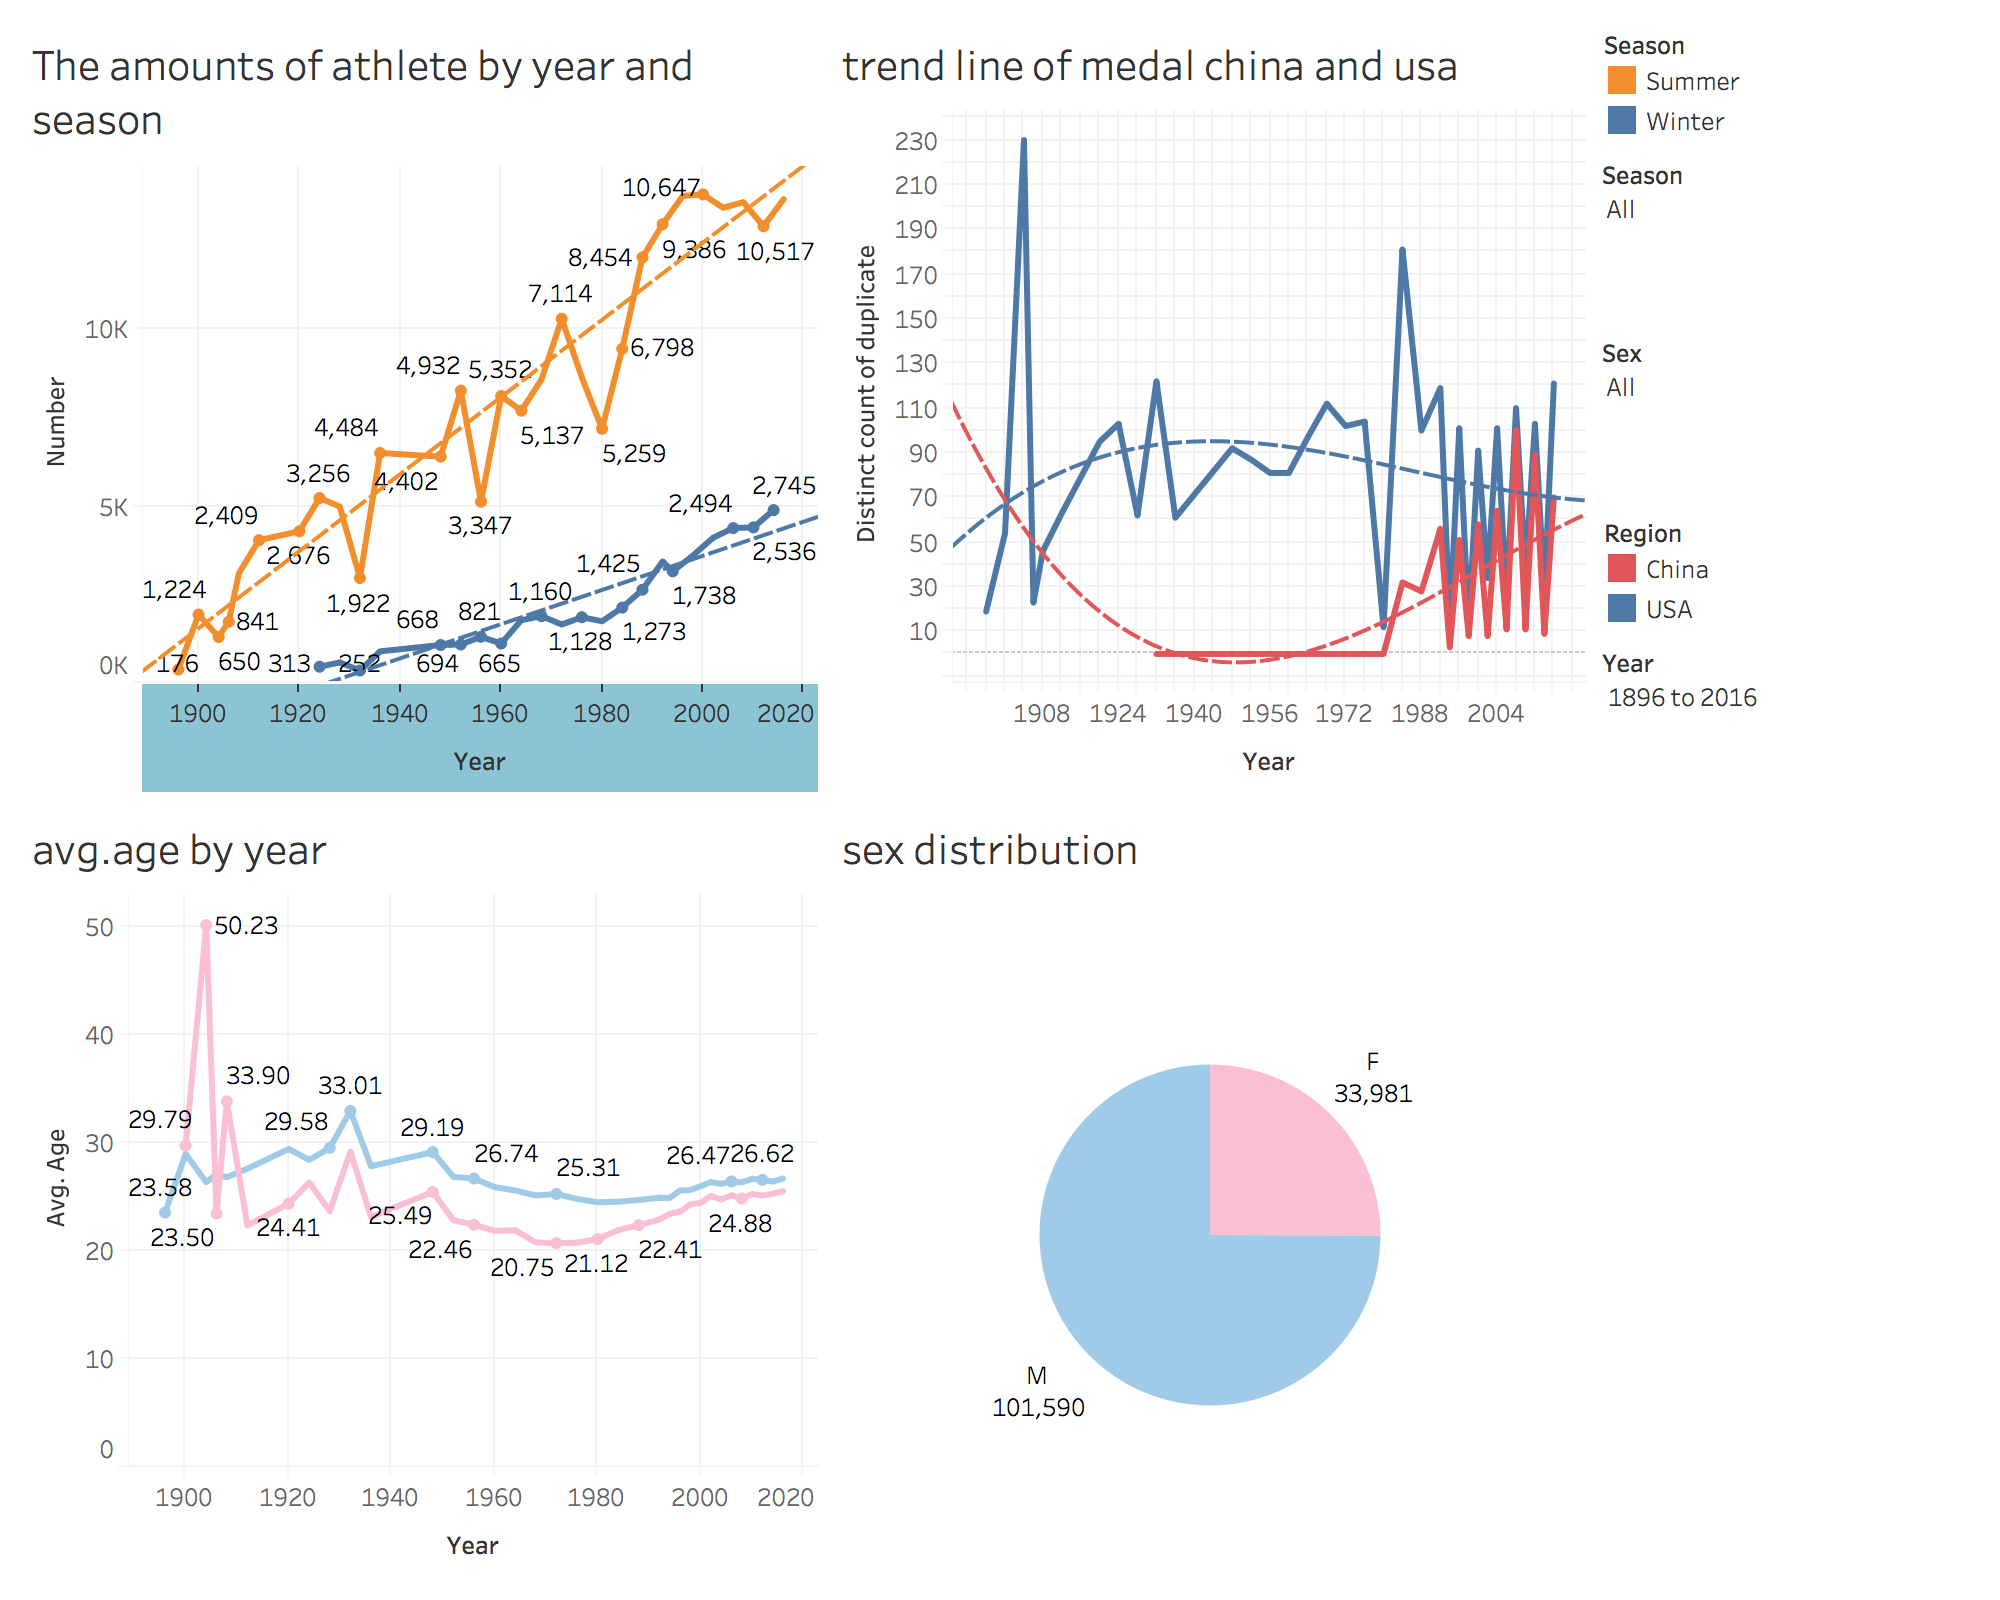

This screenshot's page, from the dashboard's own definition file:
{"tool":"tableau","page":{"name":"by year","canvas":[1000,800],"ordinal":1},"visuals":[{"type":"worksheet","title":"amount by year","mark":"Line","rows":["ID"],"cols":["Year"],"box":[8,8,405,392]},{"type":"worksheet","title":"trend line of medal china and usa","mark":"Automatic","rows":["Calculation_3398177051177095171"],"cols":["Year"],"box":[413,8,384,392]},{"type":"legend","title":"amount by year","param":"[federated.18bi9qd1os8sq51epjqoa1im3gv3].[none:Season:nk]","box":[797,8,195,66]},{"type":"filter","title":"amount by year","param":"[federated.18bi9qd1os8sq51epjqoa1im3gv3].[none:Season:nk]","box":[797,74,195,89]},{"type":"filter","title":"trend line of medal china and usa","param":"[federated.18bi9qd1os8sq51epjqoa1im3gv3].[none:Sex:nk]","box":[797,163,195,89]},{"type":"legend","title":"trend line of medal china and usa","param":"[federated.18bi9qd1os8sq51epjqoa1im3gv3].[none:region:nk]","box":[797,252,195,66]},{"type":"filter","title":"sex distribution","param":"[federated.18bi9qd1os8sq51epjqoa1im3gv3].[none:Year:qk]","box":[797,318,195,69]},{"type":"worksheet","title":"avg.age by year","mark":"Line","rows":["Age"],"cols":["Year"],"box":[8,400,405,392]},{"type":"worksheet","title":"sex distribution","mark":"Pie","box":[413,400,384,392]}]}

Visuals, with their boxes in screenshot pixels (x1, y1, x2, y2), scaled from the page's 1000x800 canvas onto the 2000x1600 screenshot:
"amount by year" worksheet (Line marks): {"left": 16, "top": 16, "right": 826, "bottom": 800}
"trend line of medal china and usa" worksheet: {"left": 826, "top": 16, "right": 1594, "bottom": 800}
"amount by year" legend: {"left": 1594, "top": 16, "right": 1984, "bottom": 148}
"amount by year" filter: {"left": 1594, "top": 148, "right": 1984, "bottom": 326}
"trend line of medal china and usa" filter: {"left": 1594, "top": 326, "right": 1984, "bottom": 504}
"trend line of medal china and usa" legend: {"left": 1594, "top": 504, "right": 1984, "bottom": 636}
"sex distribution" filter: {"left": 1594, "top": 636, "right": 1984, "bottom": 774}
"avg.age by year" worksheet (Line marks): {"left": 16, "top": 800, "right": 826, "bottom": 1584}
"sex distribution" worksheet (Pie marks): {"left": 826, "top": 800, "right": 1594, "bottom": 1584}
